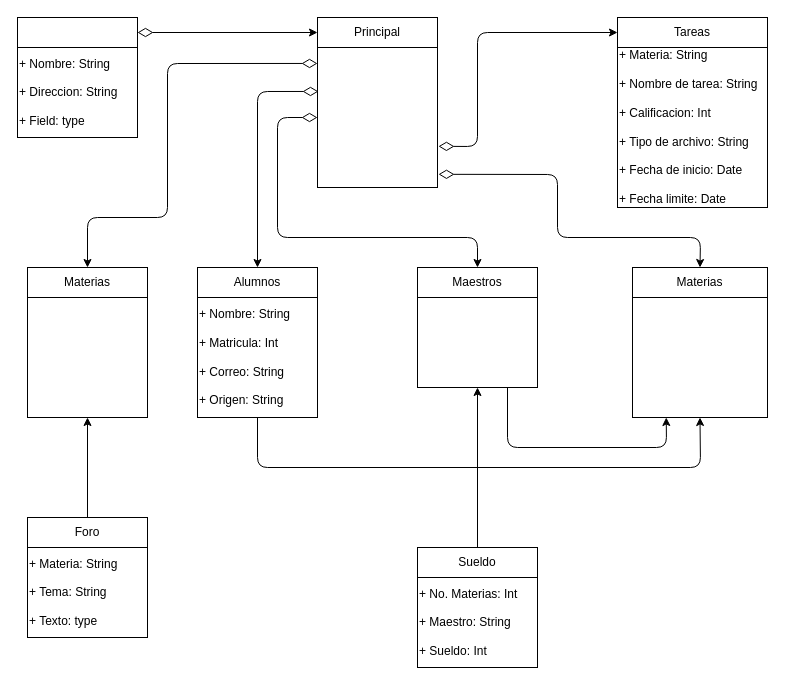
The diagram is 785 pixels wide and 685 high, and some of its shapes have lost their labels. Each missing label, with the box of its shape:
+ Check: Boolean + Alumnos + Ultima conexion: Date + Status: Boolean: (632, 296, 768, 418)
+ Clave: String + Maestro: String + Foro: String + Total alumnos: Int: (26, 296, 148, 418)
+ Materia + Alumno + Maestro + Tareas + Tutorias: (316, 46, 438, 188)
+ Nombre: String + Matricula: Int + Correo: String: (416, 296, 538, 388)
Pagina web: (16, 16, 138, 48)
